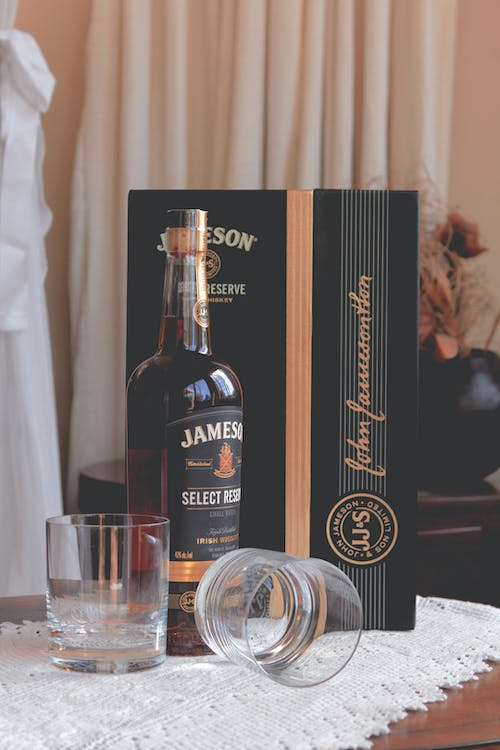alcohol: (124, 207, 244, 658), (193, 546, 366, 690), (42, 512, 171, 675)
